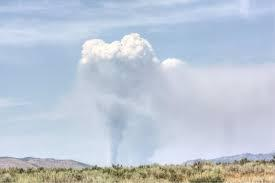yanwu: (80, 32, 189, 167)
